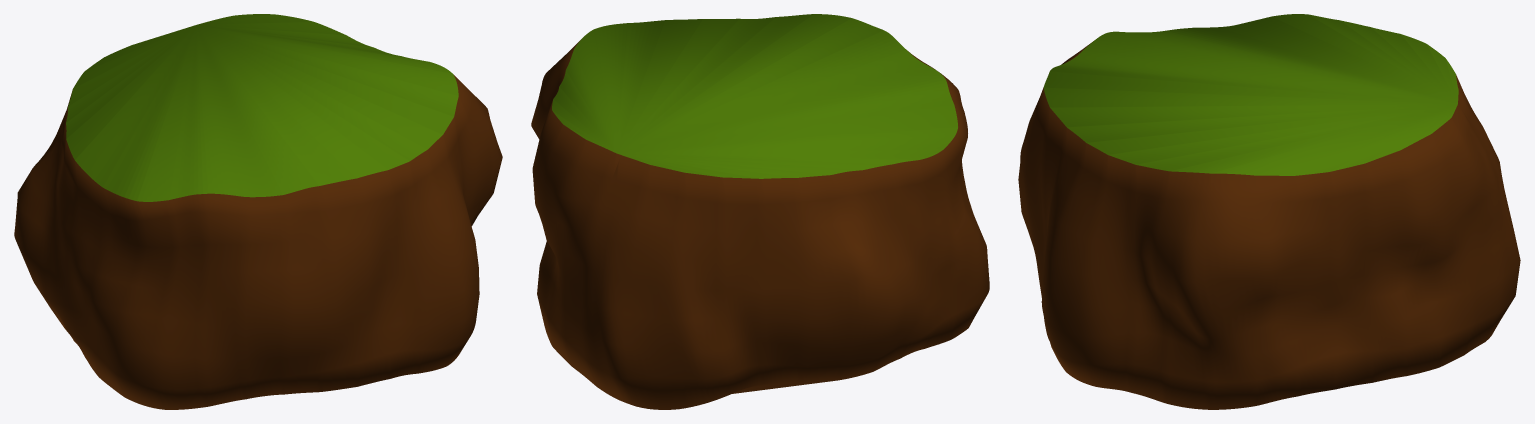
File: plataform.fbx
3 views of the same model, side by side, from view 1: azimuth 30°, elevation 25°; view 2: azimuth 150°, elevation 25°; view 3: azimuth 270°, elevation 25° (orthographic). The views are drawn at different scales.
Visible parts, largest first — view 1: Cylinder; view 2: Cylinder; view 3: Cylinder.
Boxes of the visible parts, x1,y1,x2,y2 form: Cylinder: (14, 14, 502, 409); Cylinder: (531, 14, 989, 409); Cylinder: (1018, 14, 1520, 409).
Bounding box in the file's own units: 254 × 137 × 256.
